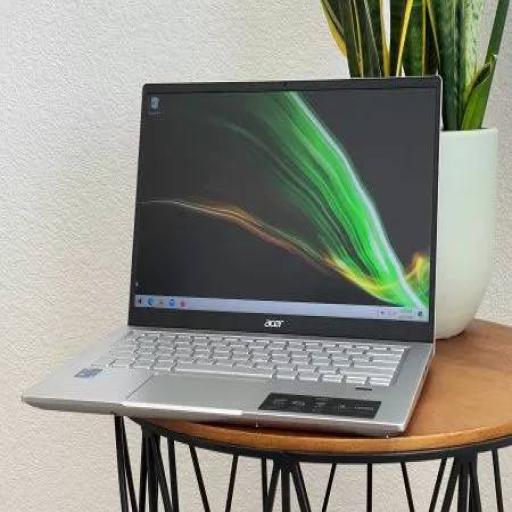glass_wall: (22, 76, 442, 436)
stroller: (113, 321, 511, 511)
